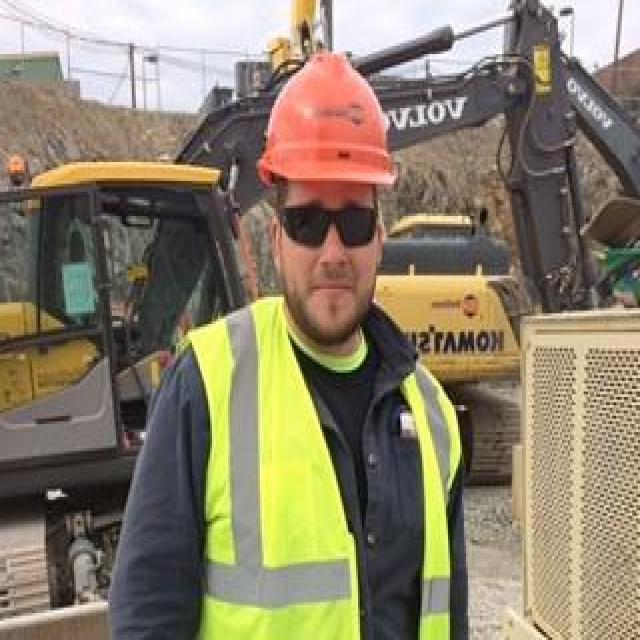reflective_jacket: (171, 296, 474, 637)
safety_helmet: (254, 43, 406, 205)
